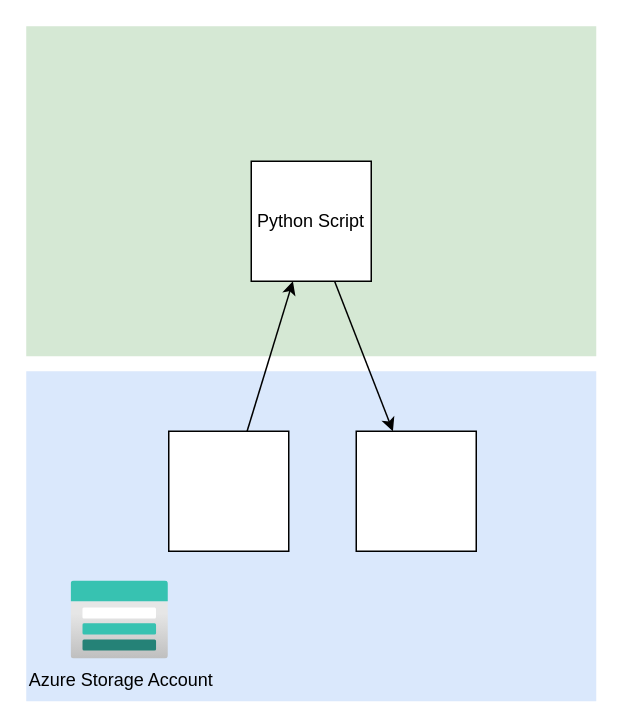
This 621x726 diagram has some shape labels left out. Here are the shapes that lost their labels. From the top down, the box of each, then its label:
(167, 430, 289, 551): Raw - Actual Billing Data
(355, 430, 476, 551): Summarized Billing Data
